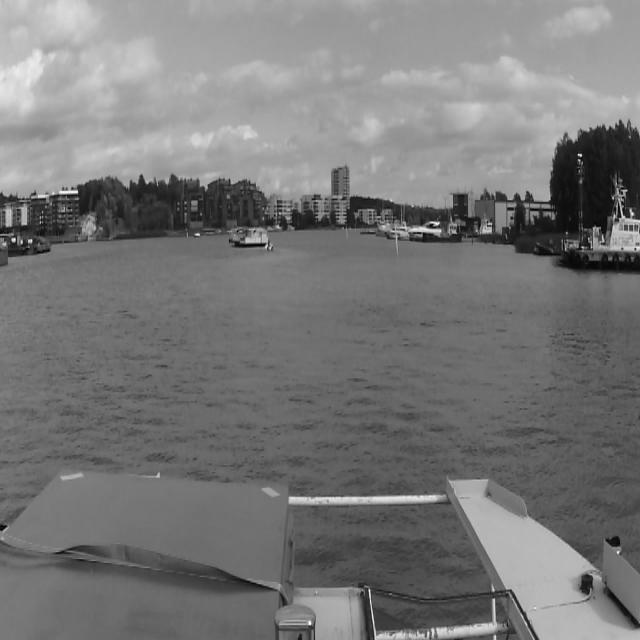buoy: (345, 225, 349, 242), (185, 231, 189, 242)
ship: (423, 212, 463, 244), (228, 222, 269, 249), (408, 218, 442, 237), (393, 223, 399, 255), (263, 239, 274, 253), (274, 223, 282, 233), (193, 230, 201, 239), (286, 223, 294, 232), (267, 225, 275, 233)
